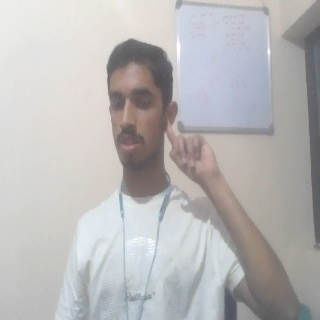Deaf: (166, 118, 221, 187)
Face: (104, 39, 179, 171)
